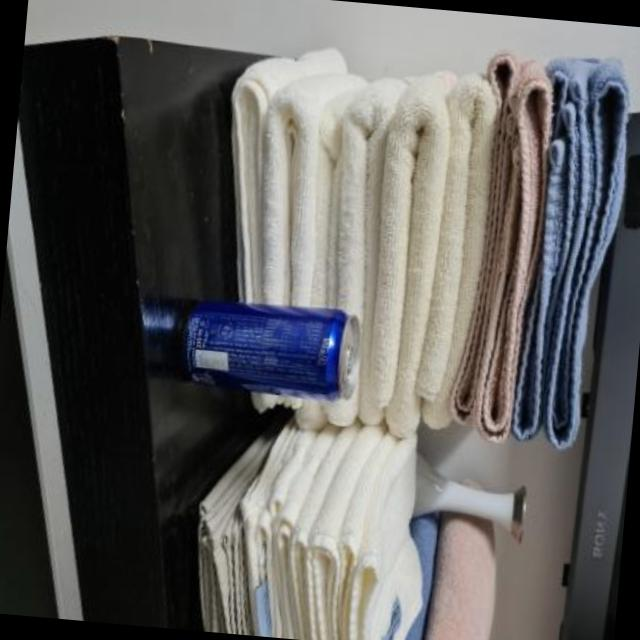metal: (182, 302, 359, 398)
